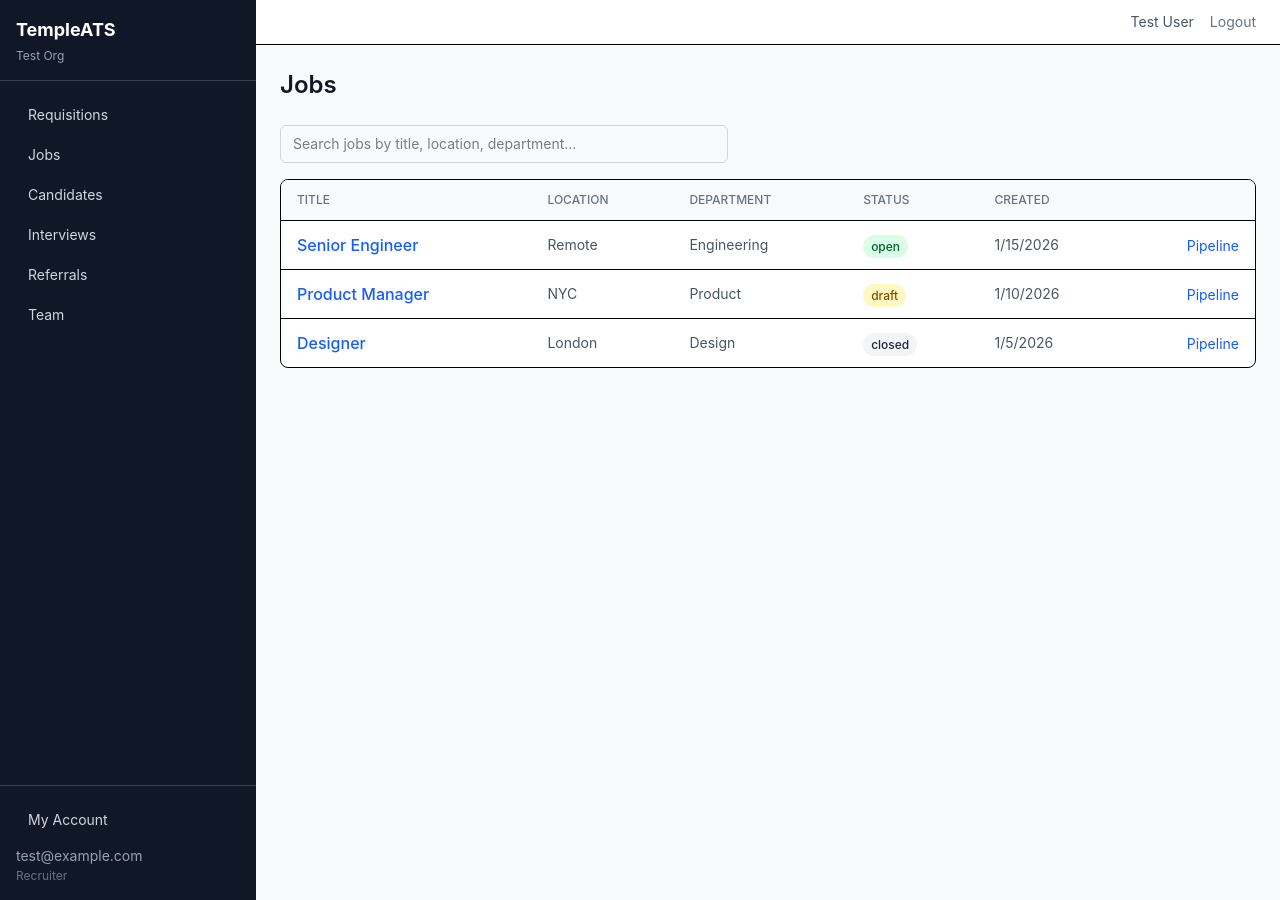
Scenario: Jobs page › shows search empty state when search has no results
Expected: the link "Senior Engineer" is shown, [297,235,418,255]
Type "nonexistent" into the field with placeholder "Search jobs by title, location, department...". click: (504, 144)
box: [280,125,728,163]
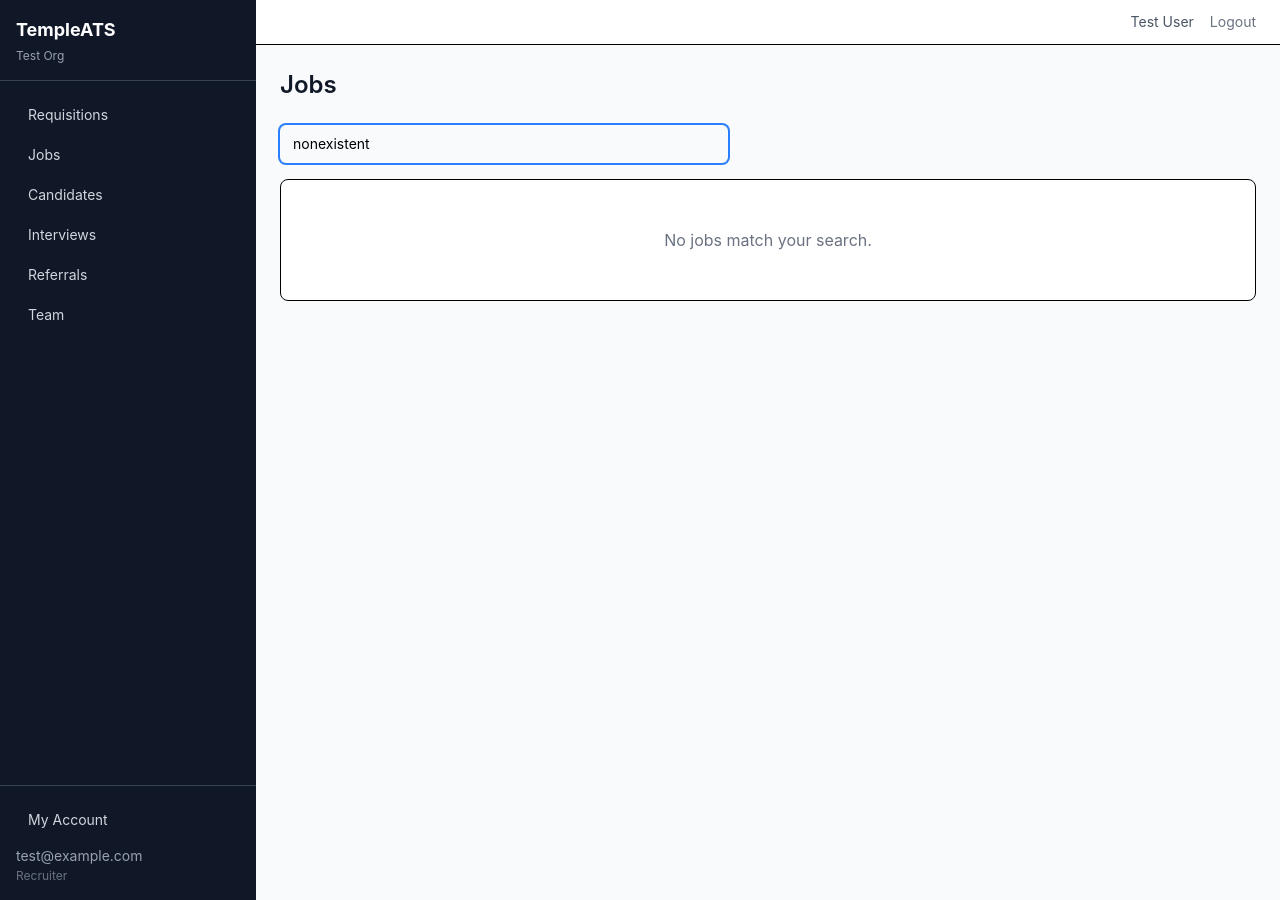
Expected: the text "No jobs match your search." is shown, [664,230,872,250]
